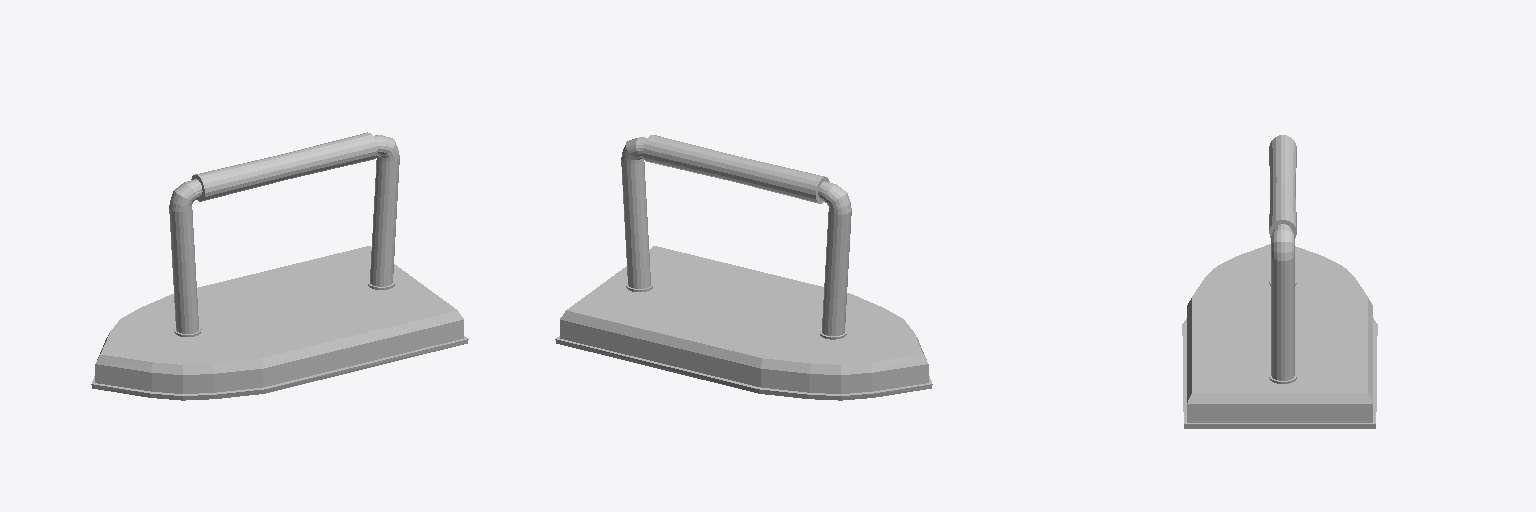
The model's file is iron.obj.
The picture shows the model from 3 angles: view 1: azimuth 30°, elevation 25°; view 2: azimuth 150°, elevation 25°; view 3: azimuth 270°, elevation 25°; orthographic projection.
Visible parts, largest first — view 1: Iron_Mesh.013; view 2: Iron_Mesh.013; view 3: Iron_Mesh.013.
Part boxes in pixels (left/top/right/bottom): Iron_Mesh.013: left=91, top=132, right=468, bottom=400; Iron_Mesh.013: left=555, top=135, right=932, bottom=400; Iron_Mesh.013: left=1182, top=135, right=1377, bottom=428.
Size of the model in its own units: 1.31 by 0.7042 by 0.6706.